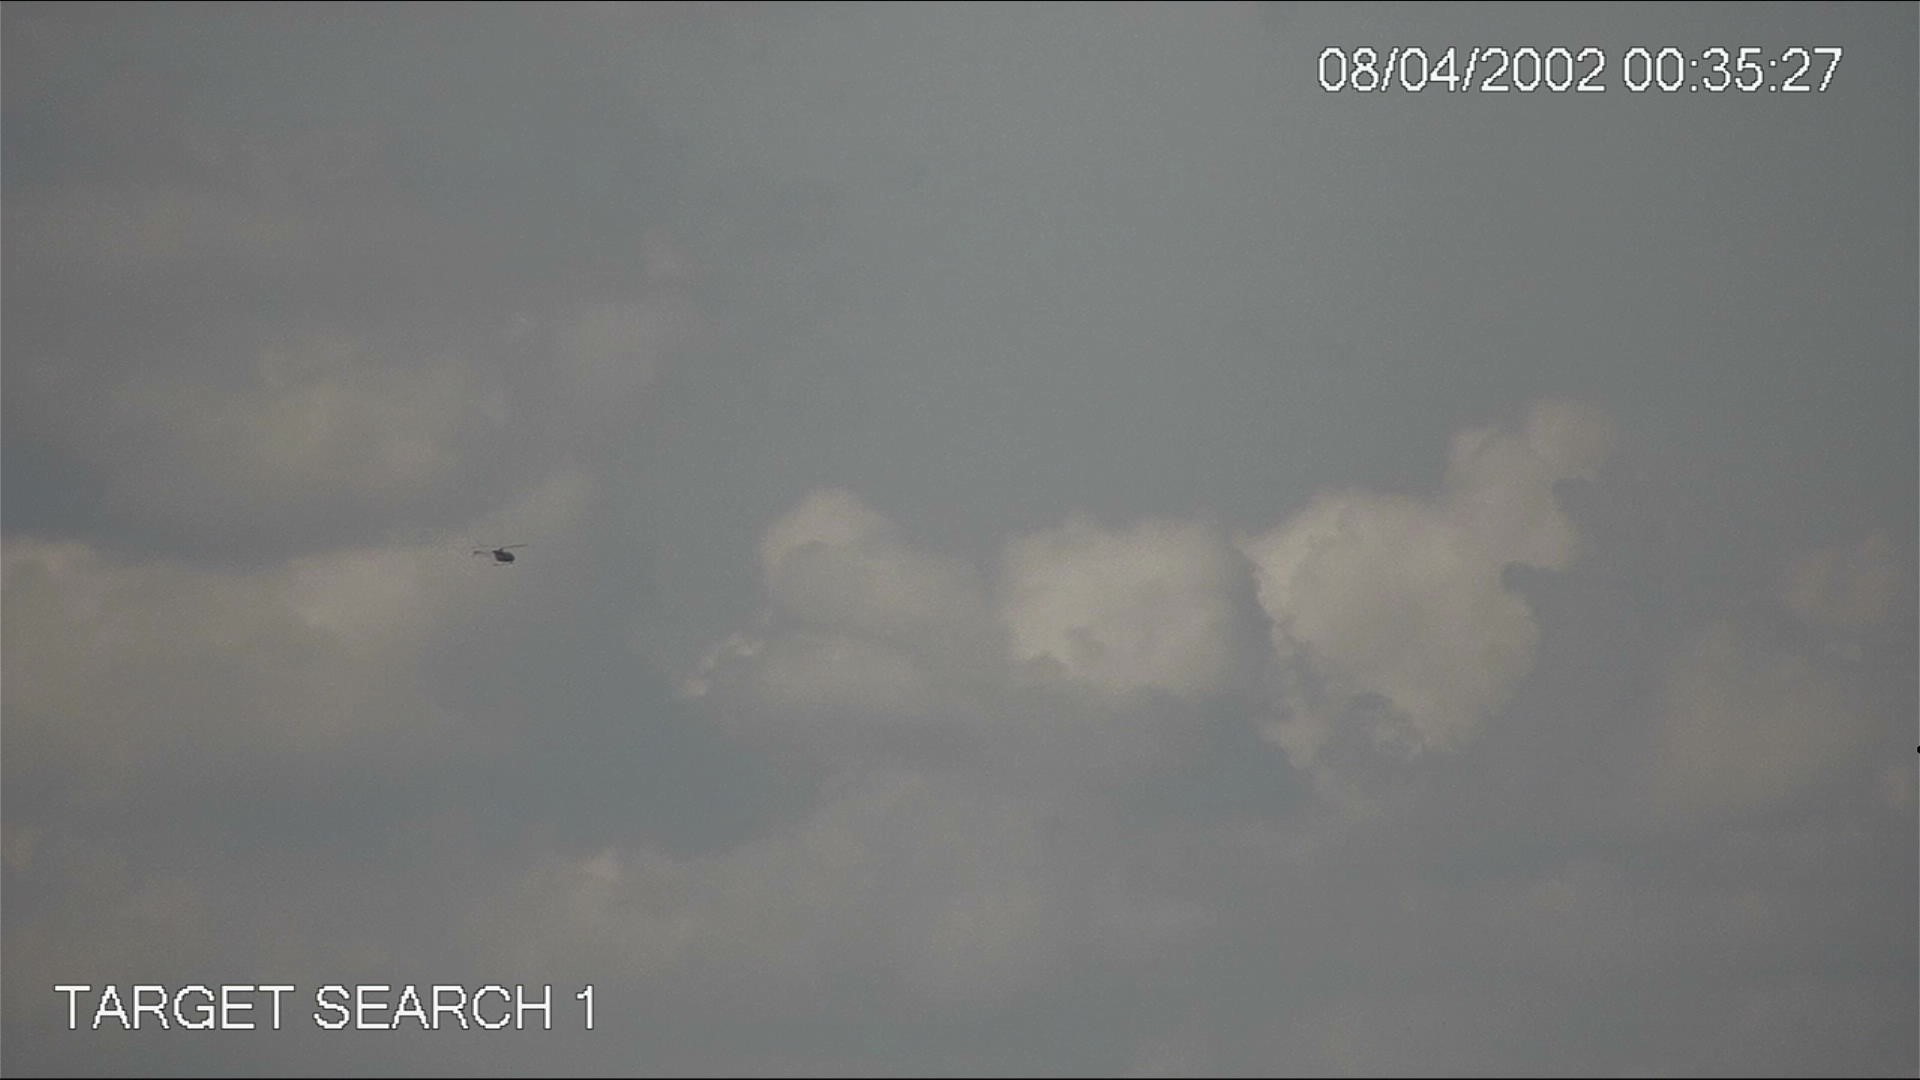SU_30: (468, 541, 527, 570)
